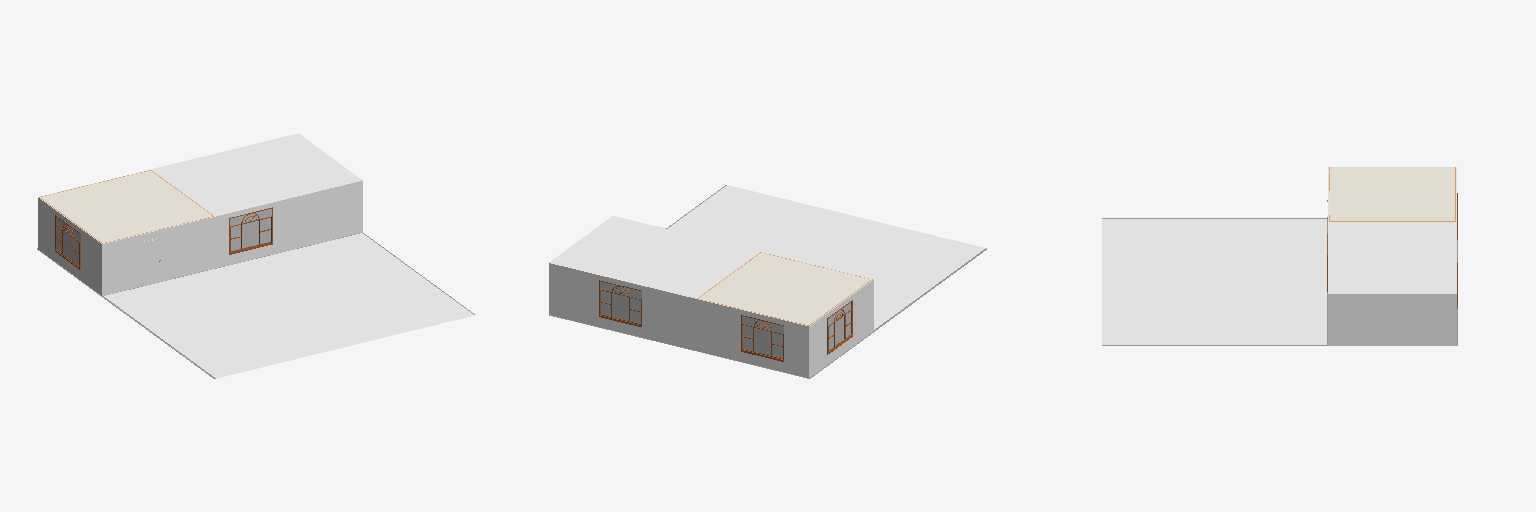
File: testHouse.obj
3 renders of one model, left to right at view 1: azimuth 30°, elevation 25°; view 2: azimuth 150°, elevation 25°; view 3: azimuth 270°, elevation 25°, orthographic.
Visible parts, largest first — view 1: room_12_73, room_13_75, wall_8_49, wall_9_56, room_16_81, room_14_77, room_15_79, wall_1_5, sweethome3d_window_pane_171, Porte_86, sweethome3d_window_pane_127; view 2: room_12_73, room_13_75, wall_11_69, wall_10_63, room_16_81, room_14_77, room_15_79, wall_1_5, sweethome3d_window_pane_149, sweethome3d_window_pane_105, sweethome3d_window_pane_127, ground_1; view 3: room_12_73, room_13_75, wall_2_11, room_16_81, room_15_79, room_14_77, ground_1.
Boxes of the visible parts, <box> form: room_12_73: <box>104,233,474,378</box>; room_13_75: <box>40,170,211,242</box>; wall_8_49: <box>215,181,361,267</box>; wall_9_56: <box>102,217,214,295</box>; room_16_81: <box>173,168,287,215</box>; room_14_77: <box>153,134,316,184</box>; room_15_79: <box>249,150,360,197</box>; wall_1_5: <box>38,198,101,295</box>; sweethome3d_window_pane_171: <box>230,209,271,250</box>; Porte_86: <box>145,238,161,285</box>; sweethome3d_window_pane_127: <box>57,217,79,264</box>; room_12_73: <box>668,185,985,329</box>; room_13_75: <box>698,253,871,324</box>; wall_11_69: <box>549,263,696,350</box>; wall_10_63: <box>697,299,808,377</box>; room_16_81: <box>644,234,758,282</box>; room_14_77: <box>551,248,716,297</box>; room_15_79: <box>573,217,682,263</box>; wall_1_5: <box>809,280,873,377</box>; sweethome3d_window_pane_149: <box>600,281,641,323</box>; sweethome3d_window_pane_105: <box>742,316,783,357</box>; sweethome3d_window_pane_127: <box>828,302,850,349</box>; ground_1: <box>549,185,986,378</box>; room_12_73: <box>1102,219,1326,344</box>; room_13_75: <box>1329,167,1454,220</box>; wall_2_11: <box>1328,294,1456,345</box>; room_16_81: <box>1329,222,1412,257</box>; room_15_79: <box>1329,259,1412,292</box>; room_14_77: <box>1415,222,1454,292</box>; ground_1: <box>1102,218,1457,345</box>.
Size of the model in its own units: 1288 by 244 by 1518.